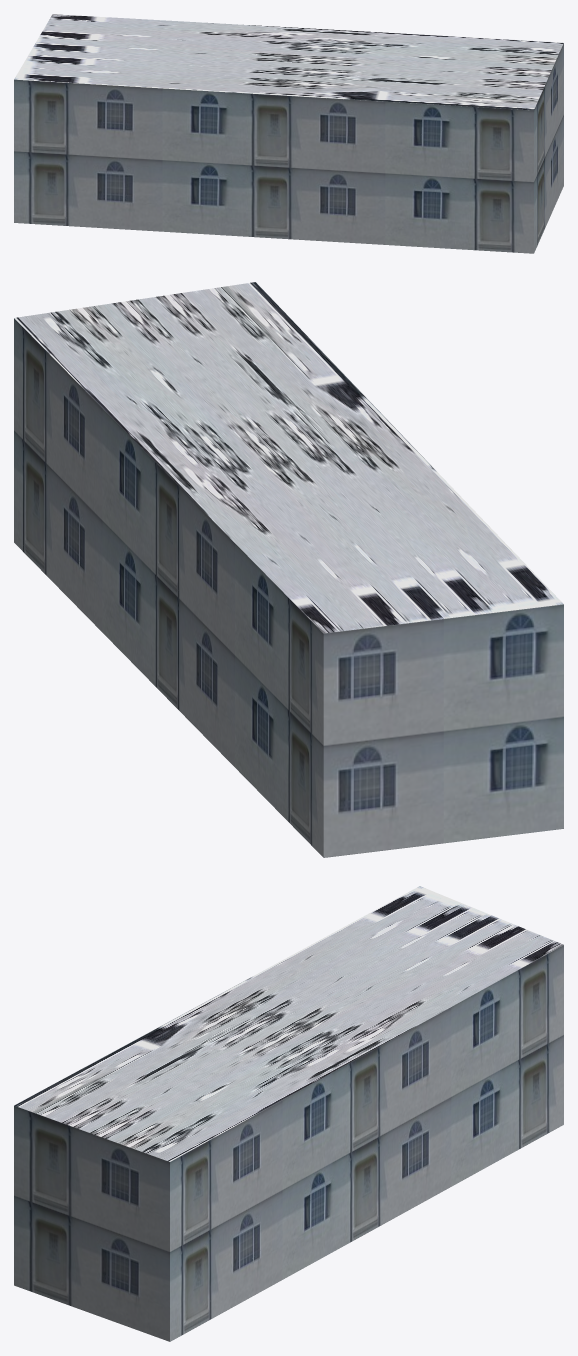
The model's file is ResTex__1561.fbx.
3 renders of one model, top to bottom at view 1: azimuth 30°, elevation 25°; view 2: azimuth 150°, elevation 25°; view 3: azimuth 270°, elevation 25°, orthographic. The views are drawn at different scales.
Visible parts, largest first — view 1: CityEngineMaterial_17_m, CityEngineMaterial_4_m; view 2: CityEngineMaterial_17_m, CityEngineMaterial_4_m; view 3: CityEngineMaterial_17_m, CityEngineMaterial_4_m.
Part boxes in pixels (x1,y1,x2,y2): CityEngineMaterial_17_m: (14,43,563,253); CityEngineMaterial_4_m: (14,14,563,110); CityEngineMaterial_17_m: (14,318,563,857); CityEngineMaterial_4_m: (14,282,563,633); CityEngineMaterial_17_m: (14,945,563,1341); CityEngineMaterial_4_m: (14,886,563,1161).
Bounding box in the file's own units: 19.74 × 6 × 16.62.
Materials: 2 (2 with a texture image).
